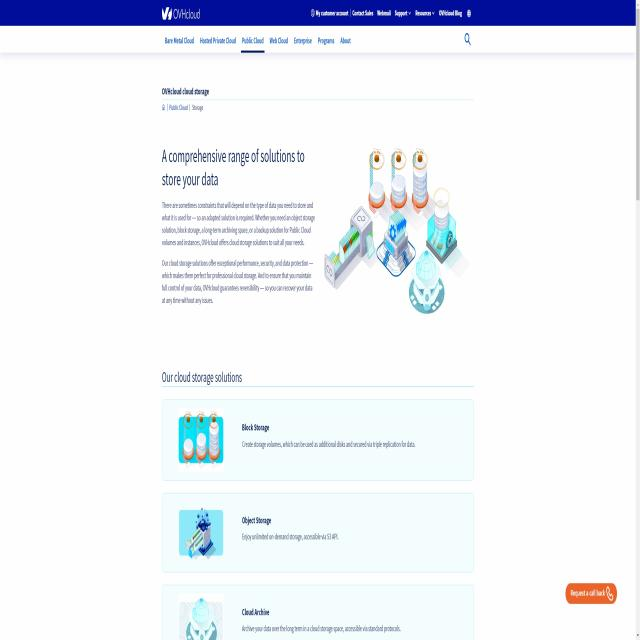menu-bar: (308, 2, 474, 21)
tab-bar: (162, 32, 352, 51)
